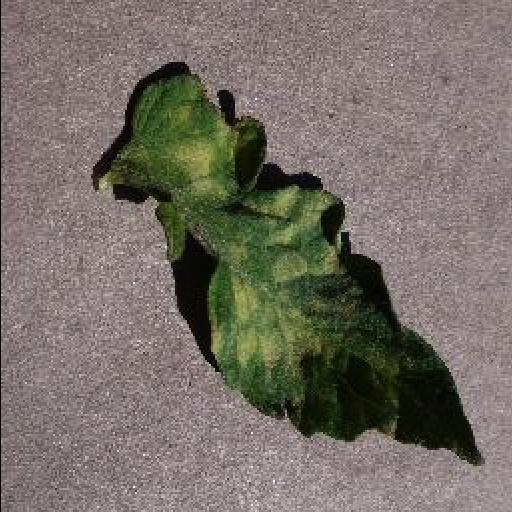disease_tomato: (93, 76, 483, 466)
